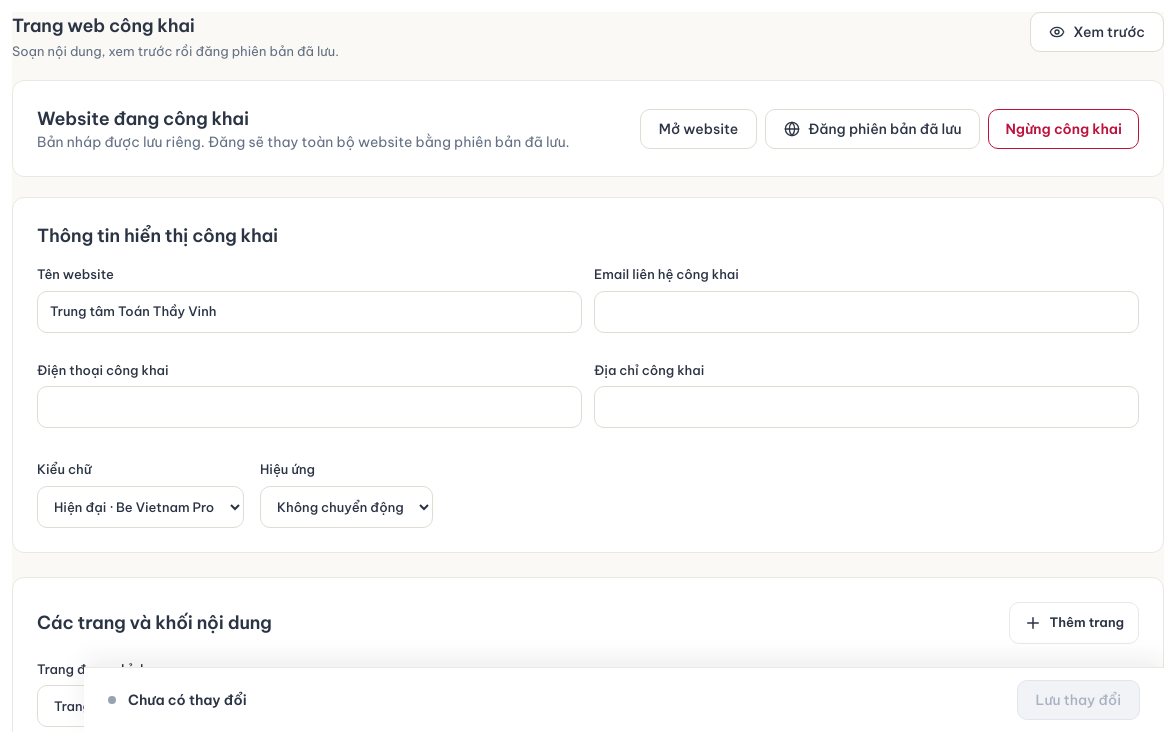
Test: blocks publishing unsaved changes
Replace the text in the field labelled "Tên website" with "Tên mới" at (310, 312), box [37,290,582,332]
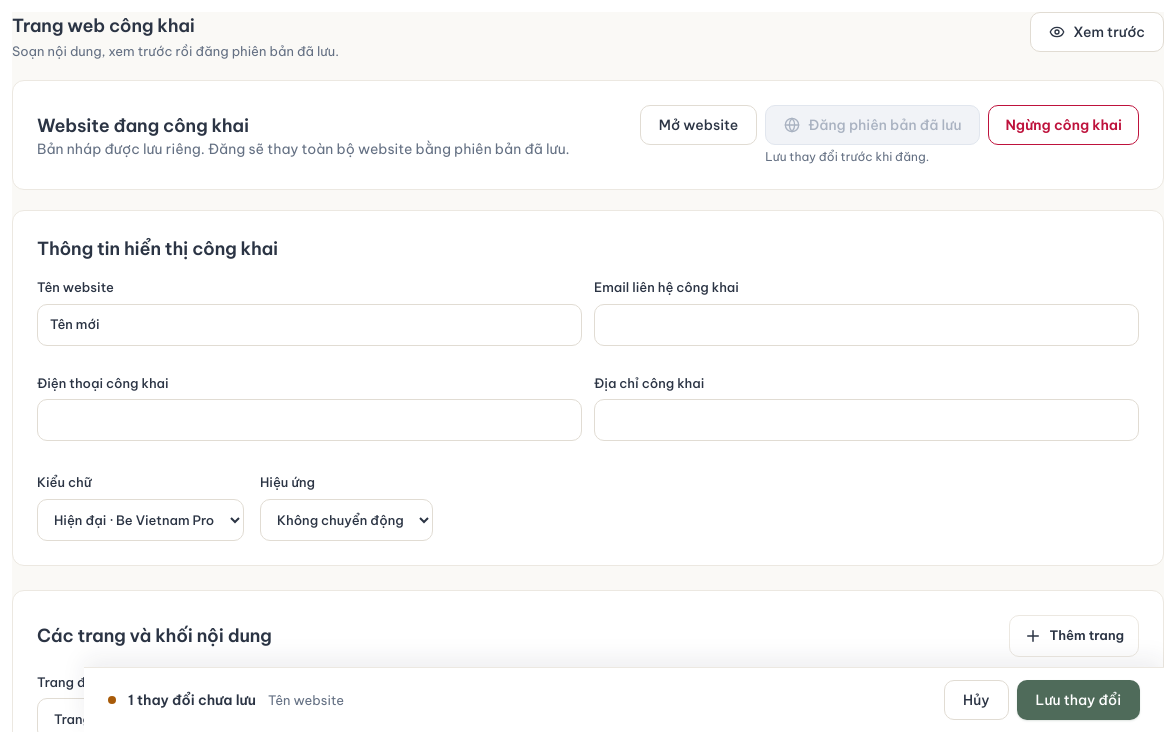
Expected: the button "Đăng phiên bản đã lưu" is disabled, [765,105,980,145]
